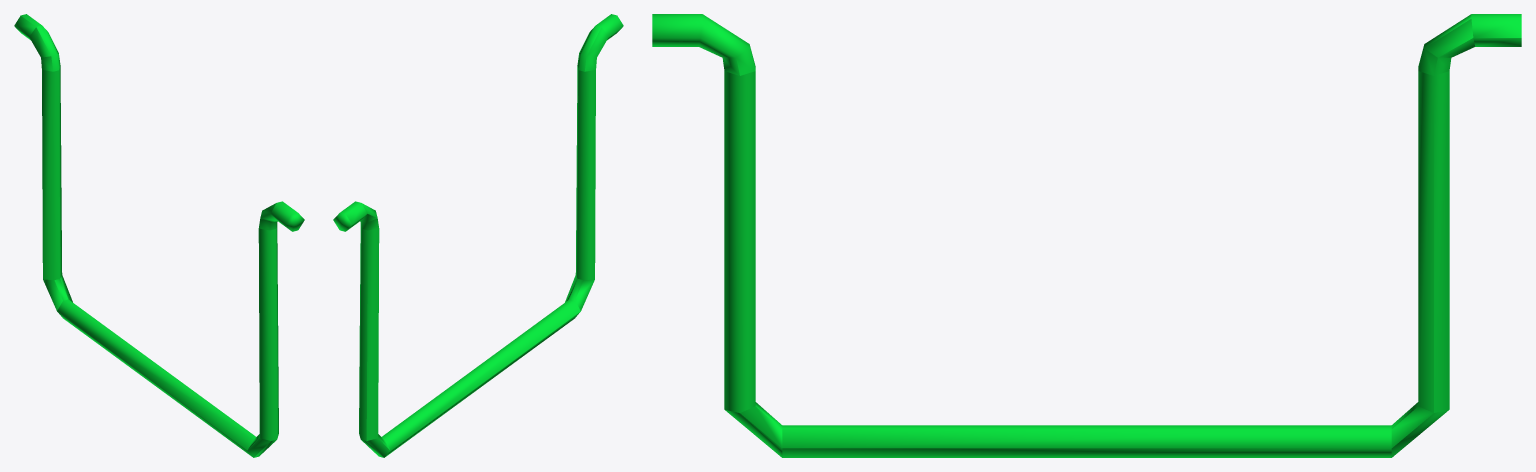
File: Gate.fbx
The picture shows the model from 3 angles, left to right: view 1: azimuth 30°, elevation 25°; view 2: azimuth 150°, elevation 25°; view 3: azimuth 270°, elevation 25°; orthographic projection. The views are drawn at different scales.
Visible parts, largest first — view 1: Gate; view 2: Gate; view 3: Gate.
Boxes of the visible parts, <box> form: Gate: <box>14,14,304,457</box>; Gate: <box>333,14,623,457</box>; Gate: <box>652,14,1521,457</box>.
Bounding box in the file's own units: 0.1863 × 2.35 × 4.22.
